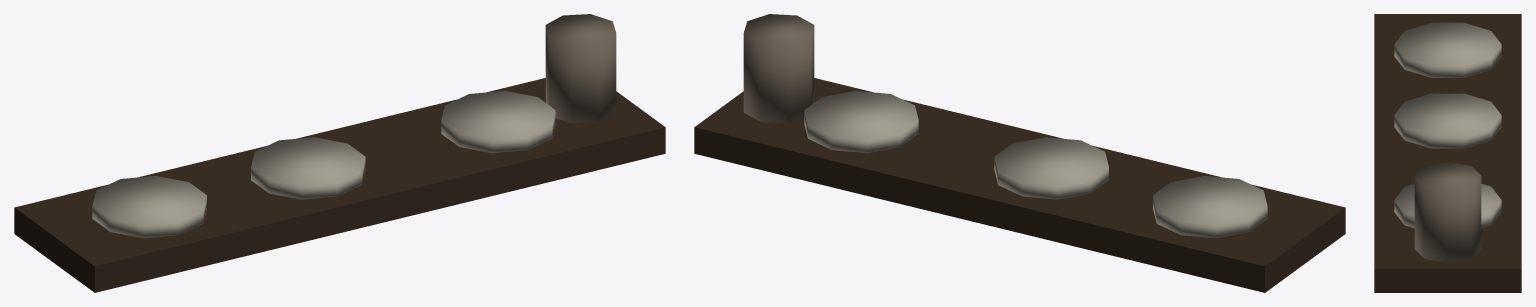
File: dish_shelf.glb
3 renders of one model, left to right at view 1: azimuth 30°, elevation 25°; view 2: azimuth 150°, elevation 25°; view 3: azimuth 270°, elevation 25°, orthographic. The views are drawn at different scales.
Parts seen in each view (by area): view 1: dish_shelf; view 2: dish_shelf; view 3: dish_shelf.
Part boxes in pixels (x1,y1,x2,y2): dish_shelf: (14, 14, 665, 292); dish_shelf: (694, 14, 1345, 292); dish_shelf: (1374, 14, 1521, 292).
Size of the model in its own units: 0.9 by 0.16 by 0.22.
